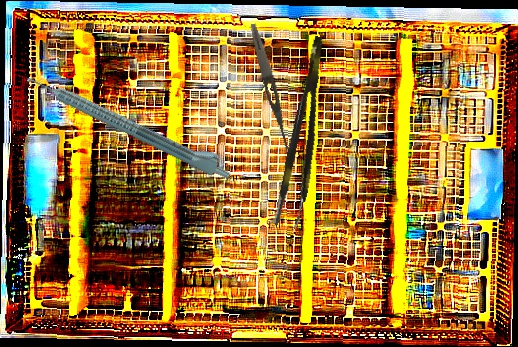Dressing Forceps: (246, 22, 297, 158)
Handpiece: (22, 61, 239, 185)
Tissue Forceps: (272, 35, 340, 230)
